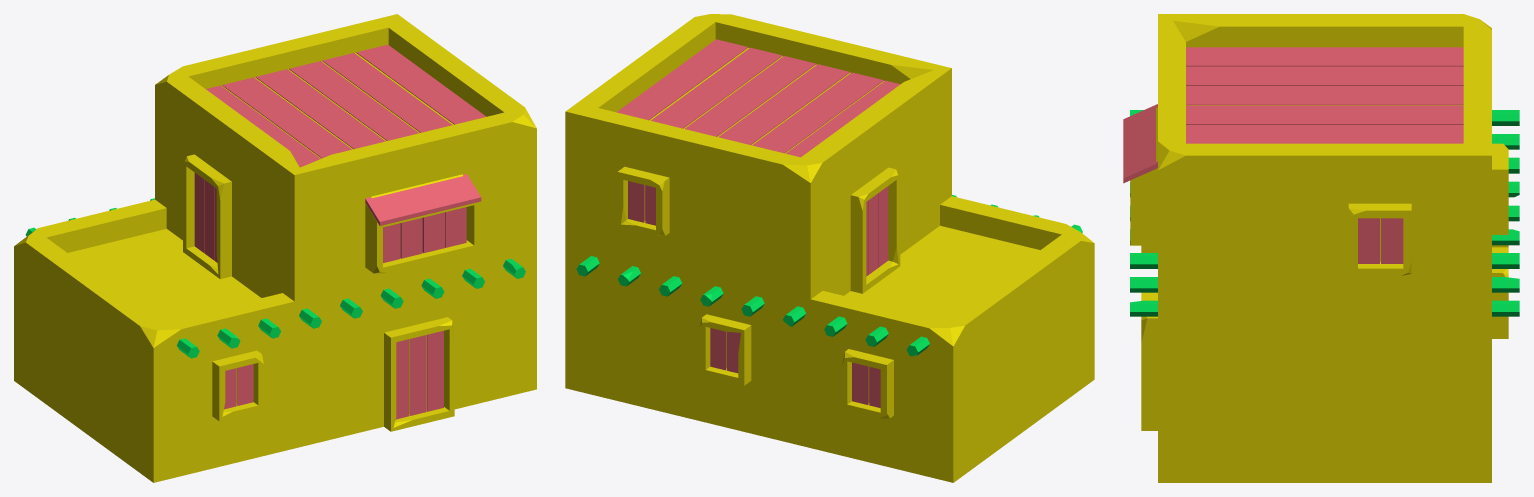
File: decoration-house-big-egypt.fbx
The picture shows the model from 3 angles, left to right: view 1: azimuth 30°, elevation 25°; view 2: azimuth 150°, elevation 25°; view 3: azimuth 270°, elevation 25°; orthographic projection. The views are drawn at different scales.
Visible parts, largest first — view 1: decoration-house-big-egypt; view 2: decoration-house-big-egypt; view 3: decoration-house-big-egypt.
Boxes of the visible parts, x1=… form: decoration-house-big-egypt: x1=14, y1=14, x2=536, y2=482; decoration-house-big-egypt: x1=565, y1=14, x2=1094, y2=482; decoration-house-big-egypt: x1=1123, y1=14, x2=1519, y2=482.
Bounding box in the file's own units: 9.82 × 6.49 × 7.13.
